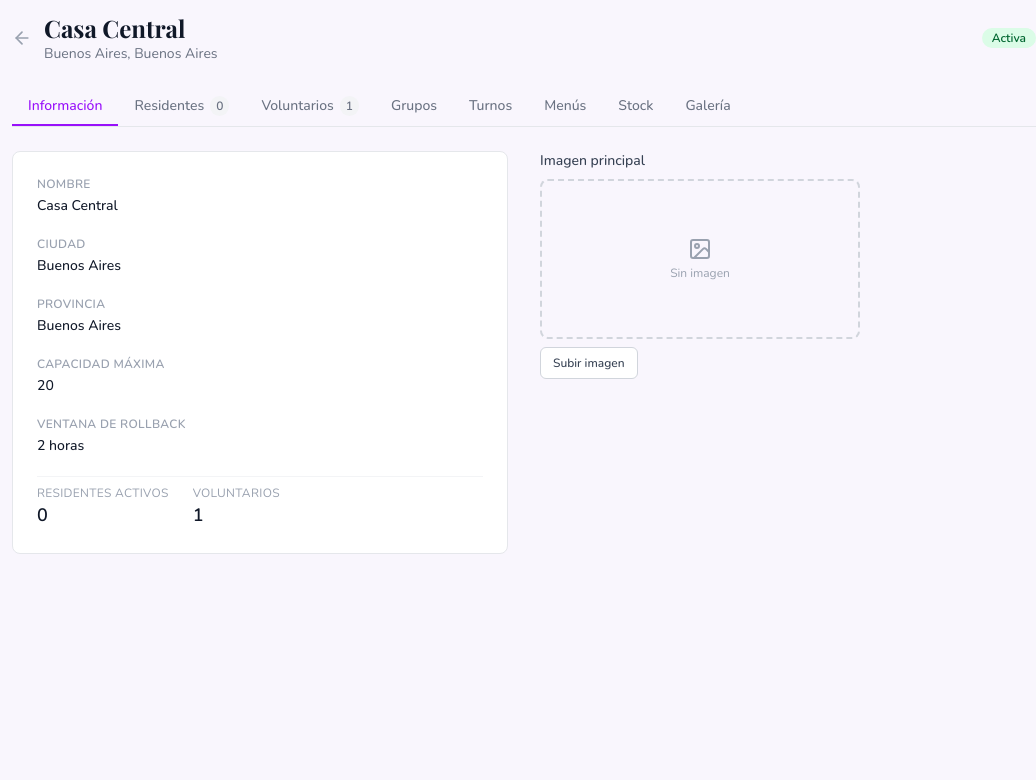
Test case: ResidenciaDetailPage — tab Voluntarios con datos › muestra lista de voluntarios con email
Step 1. Click the tab "Voluntarios 1" → point(310, 107), box [245,88,375,126]
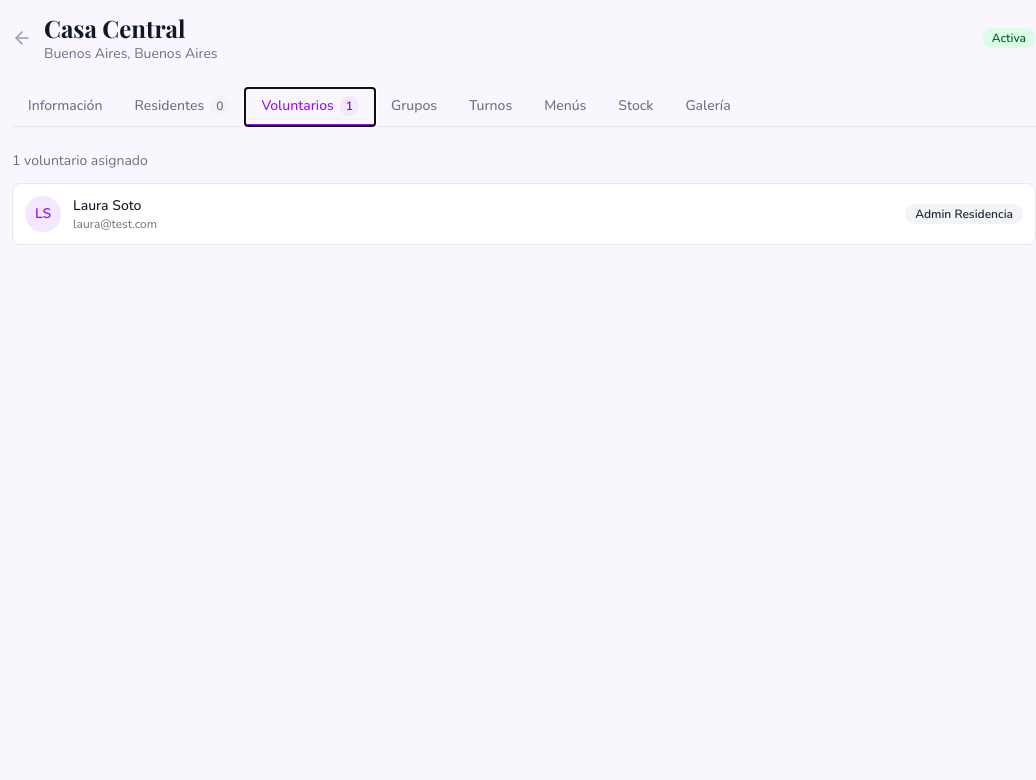
Check: the text "laura@test.com" is shown, box [73,216,157,232]
